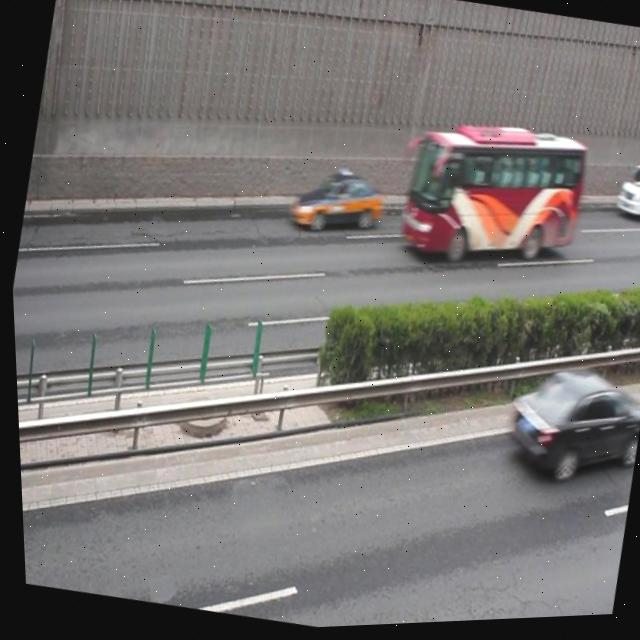car: (491, 355, 640, 500), (282, 163, 388, 246)
truck: (608, 161, 640, 232)
van: (390, 111, 591, 284)
